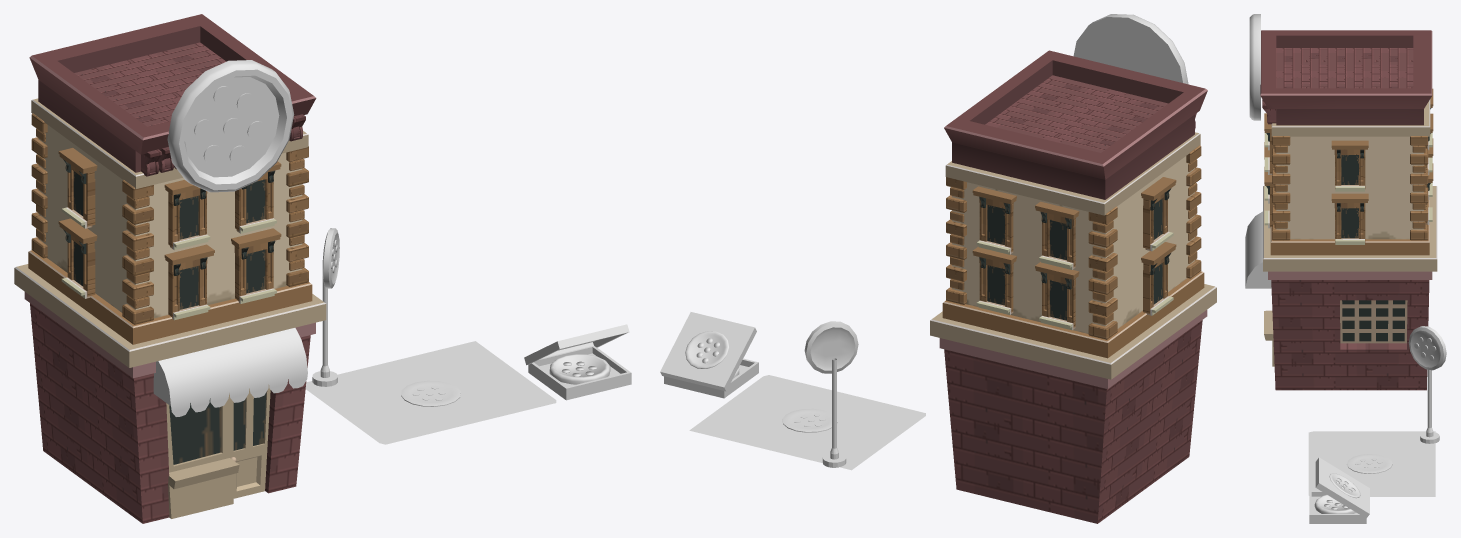
The model's file is pizzeria.fbx.
3 views of the same model, side by side, from view 1: azimuth 30°, elevation 25°; view 2: azimuth 150°, elevation 25°; view 3: azimuth 270°, elevation 25° (orthographic). The views are drawn at different scales.
Parts seen in each view (by area): view 1: pizzeria, parkingspace, pizzabox; view 2: pizzeria, parkingspace, pizzabox; view 3: pizzeria, parkingspace, pizzabox.
Boxes of the visible parts, x1=… form: pizzeria: x1=14, y1=14, x2=326, y2=523; parkingspace: x1=305, y1=228, x2=556, y2=444; pizzabox: x1=524, y1=324, x2=631, y2=400; pizzeria: x1=930, y1=14, x2=1216, y2=523; parkingspace: x1=689, y1=321, x2=925, y2=470; pizzabox: x1=660, y1=312, x2=758, y2=398; pizzeria: x1=1245, y1=14, x2=1437, y2=390; parkingspace: x1=1308, y1=326, x2=1446, y2=496; pizzabox: x1=1309, y1=457, x2=1369, y2=523.
Size of the model in its own units: 8.65 by 6.91 by 3.66.
Materials: 4 (1 with a texture image).
